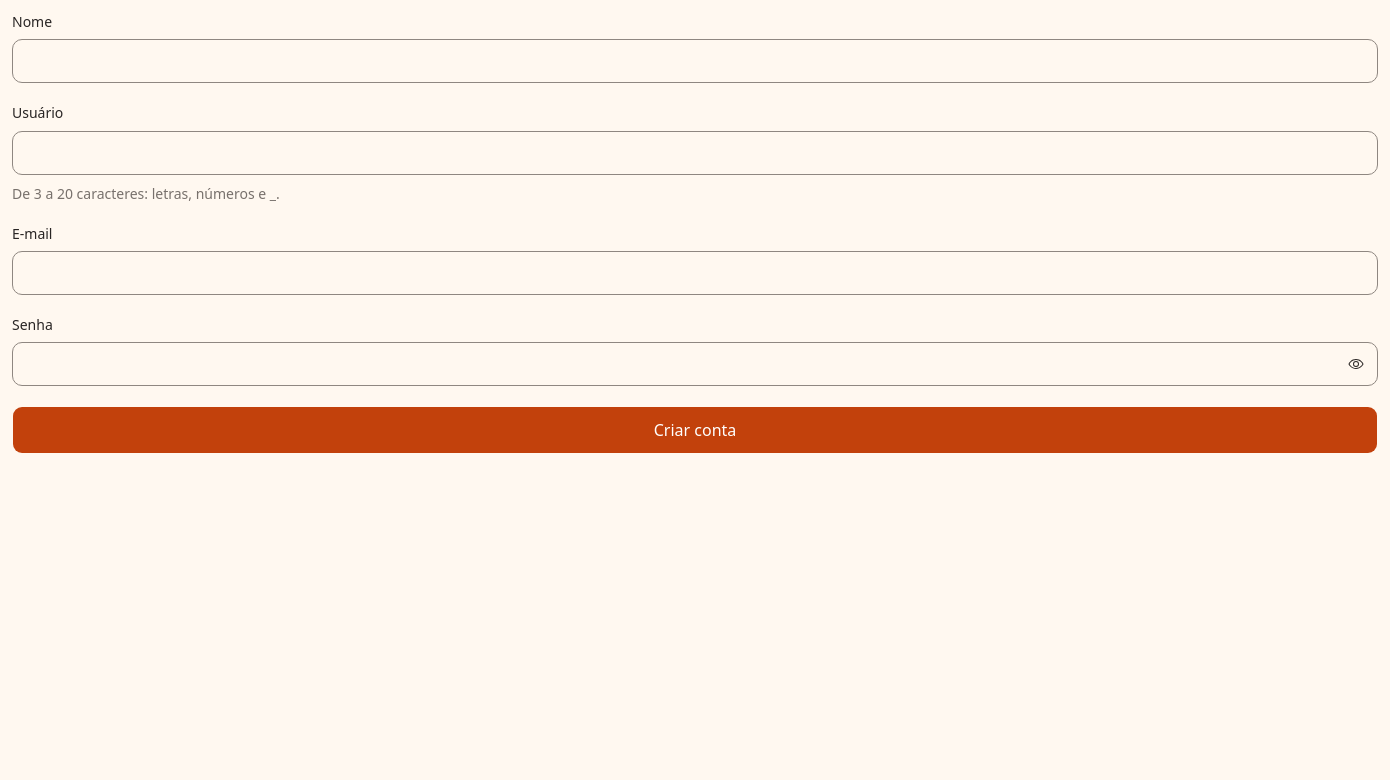
Test: SignUpForm › shows field errors and sends nothing when the data is invalid
Type "a!" into the field labelled "Usuário".
click(695, 152); type("a!")  # box x1=12 y1=130 x2=1378 y2=174
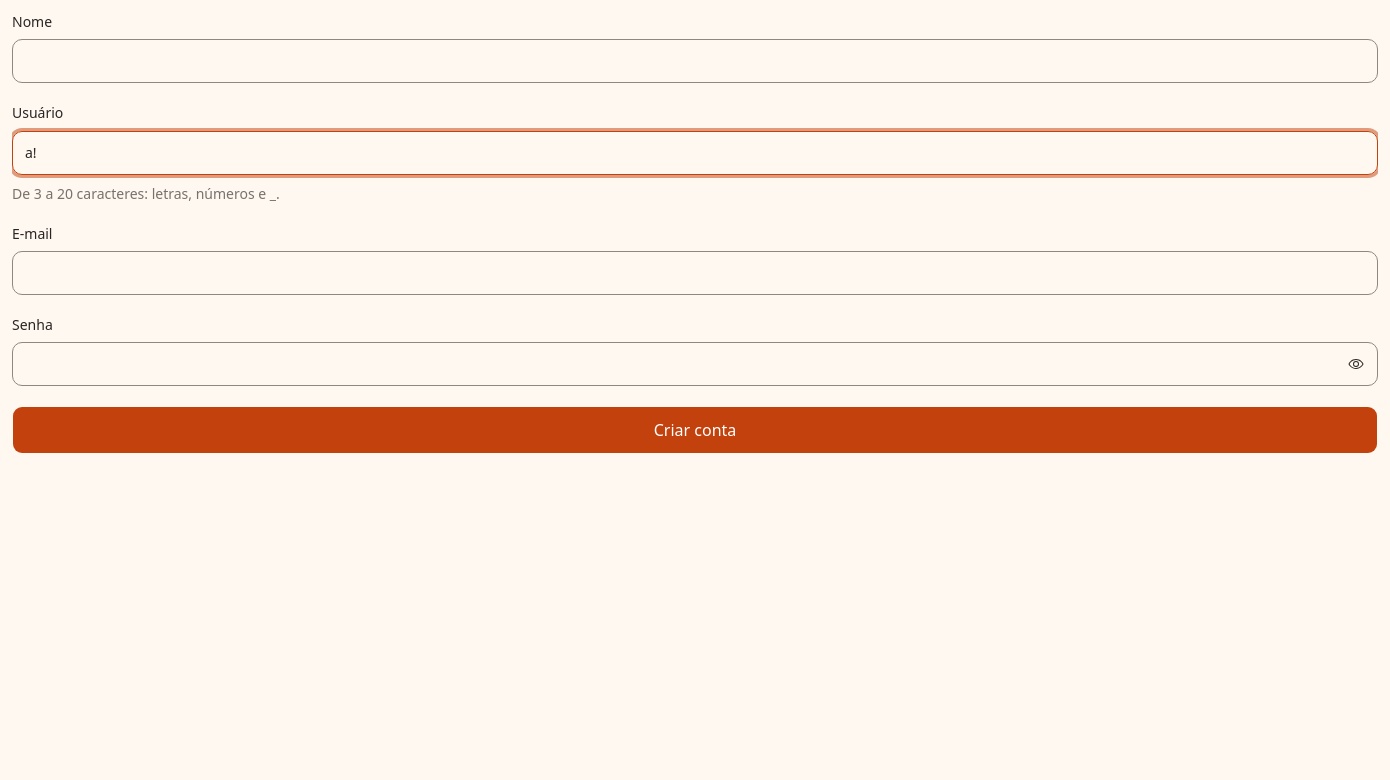
Click the button "Criar conta".
click(695, 430)  # box x1=12 y1=406 x2=1378 y2=454
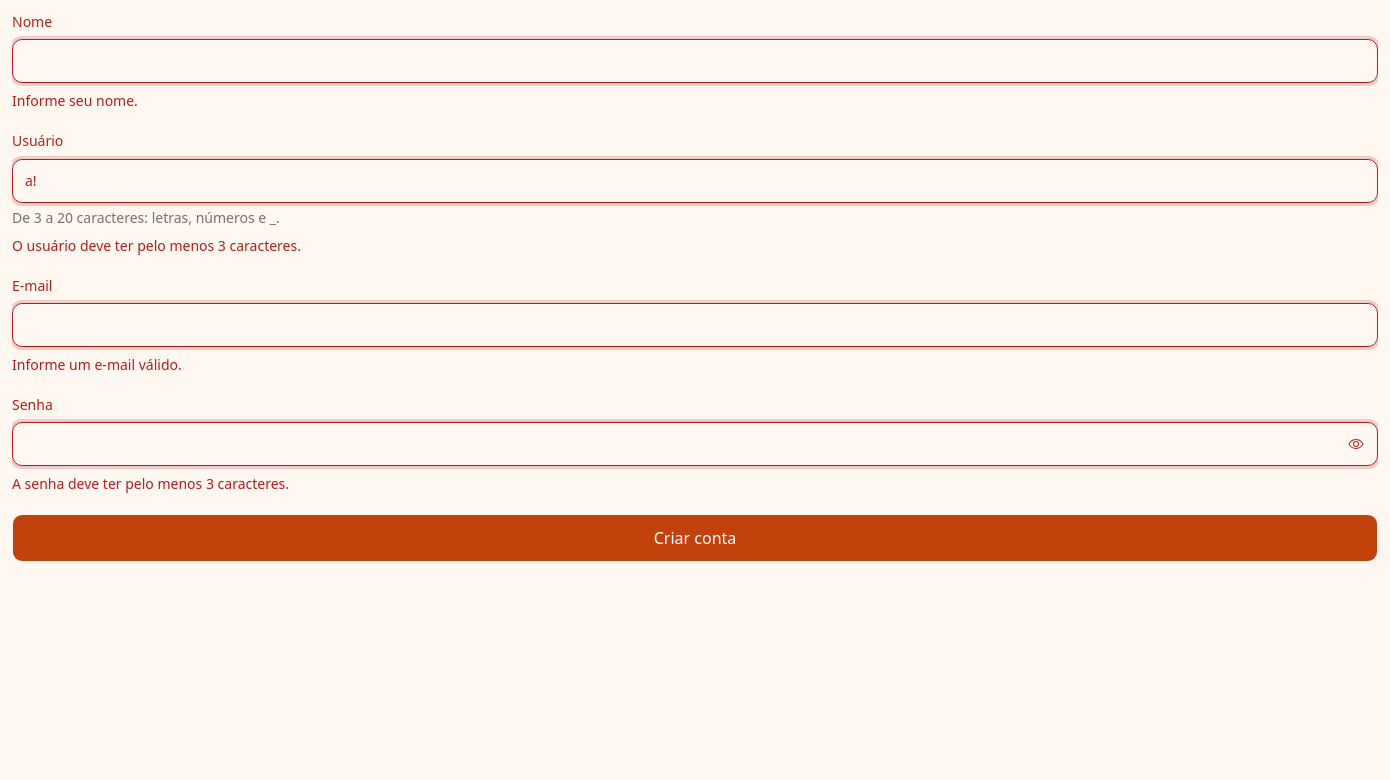
expect the text "Informe seu nome." is shown: met, box x1=12 y1=91 x2=138 y2=110
expect the text "O usuário deve ter pelo menos 3 caracteres." is shown: met, box x1=12 y1=236 x2=301 y2=254
